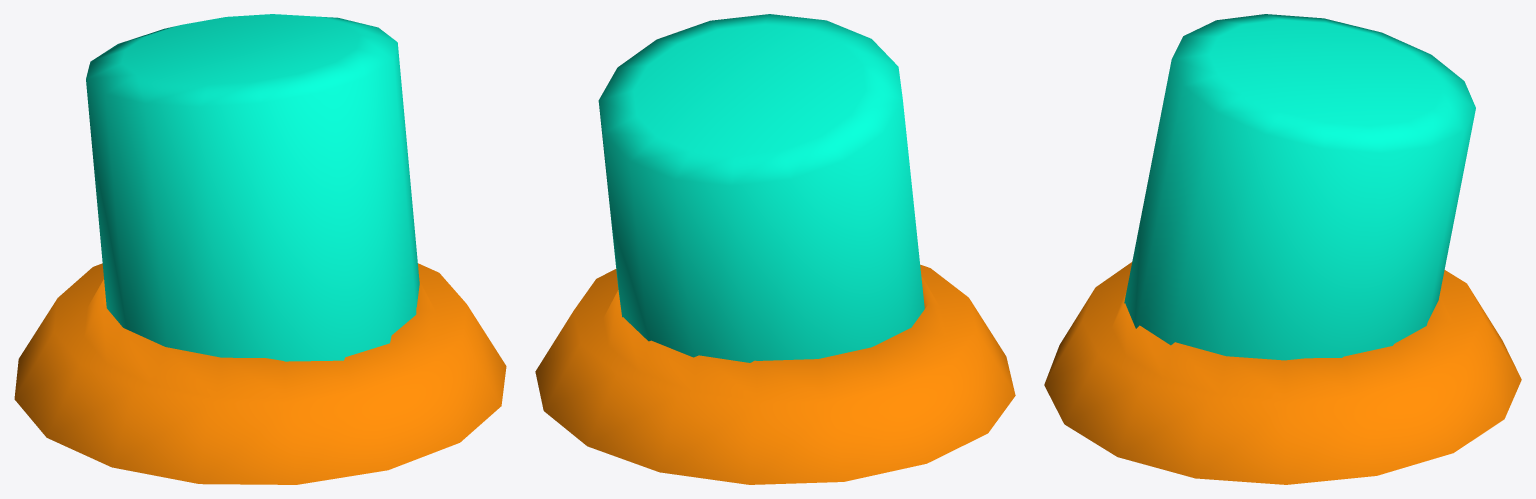
The model's file is Lago_Nubecita LP 1.fbx.
3 renders of one model, left to right at view 1: azimuth 30°, elevation 25°; view 2: azimuth 150°, elevation 25°; view 3: azimuth 270°, elevation 25°, orthographic. The views are drawn at different scales.
Visible parts, largest first — view 1: Nubecita LP 1; view 2: Nubecita LP 1; view 3: Nubecita LP 1.
Part boxes in pixels (x1,y1,x2,y2): Nubecita LP 1: [14, 14, 506, 484]; Nubecita LP 1: [535, 14, 1015, 484]; Nubecita LP 1: [1044, 14, 1521, 484].
Bounding box in the file's own units: 126 × 97.59 × 123.
